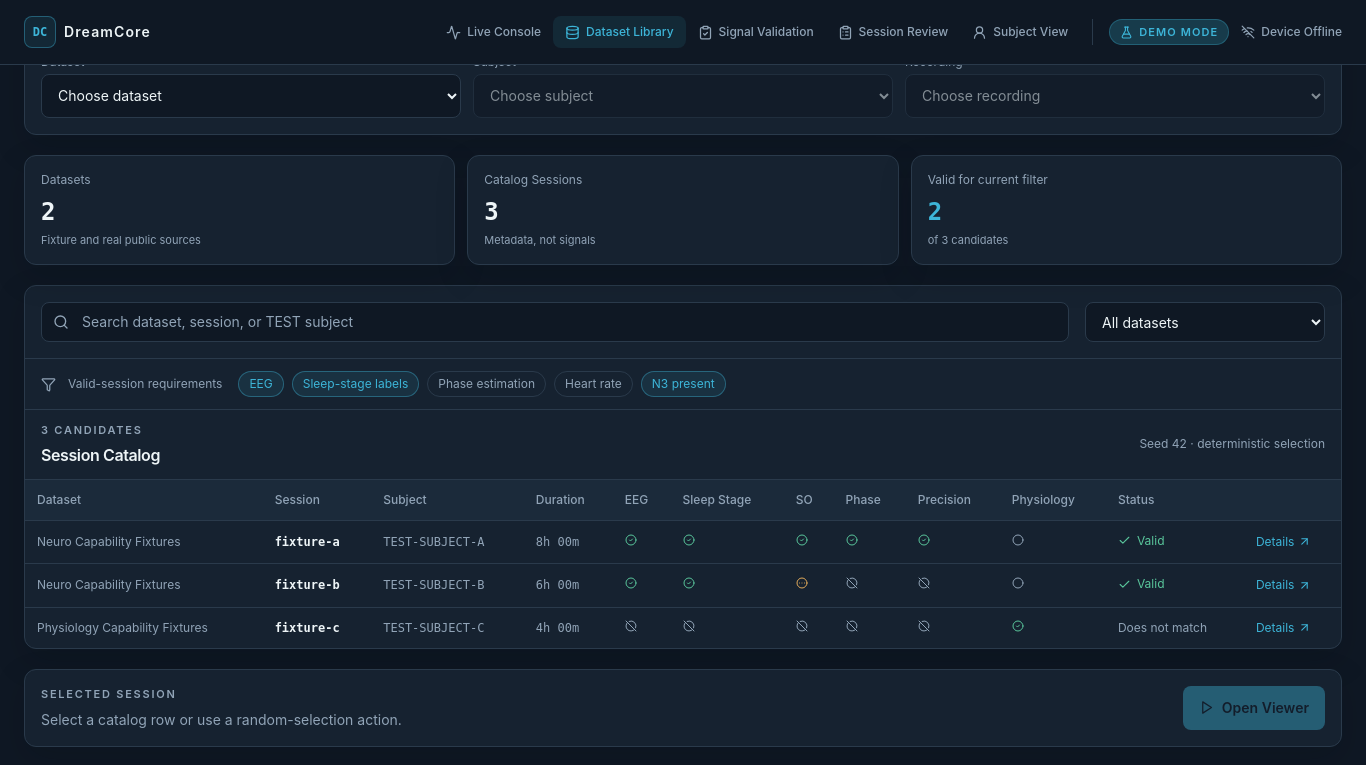
Scenario: Dataset Library and session loading › updates valid-session results with capability filters
(page scrolled)
Expected: the text with test id "valid-session-count" reads "2", [928,198,942,226]
Click the button "Phase estimation" at (487, 384), box [427,371,546,397]
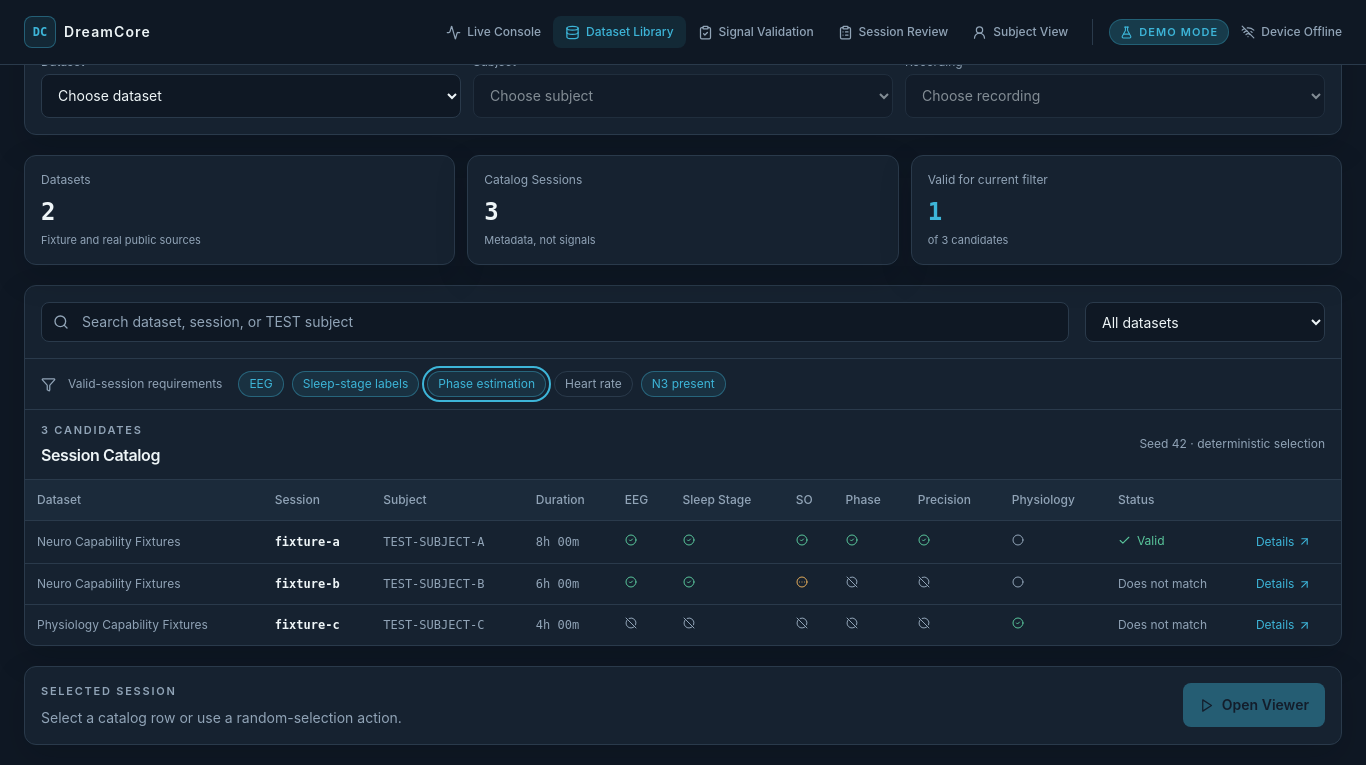
Expected: the text with test id "valid-session-count" reads "1", [928,198,942,226]
